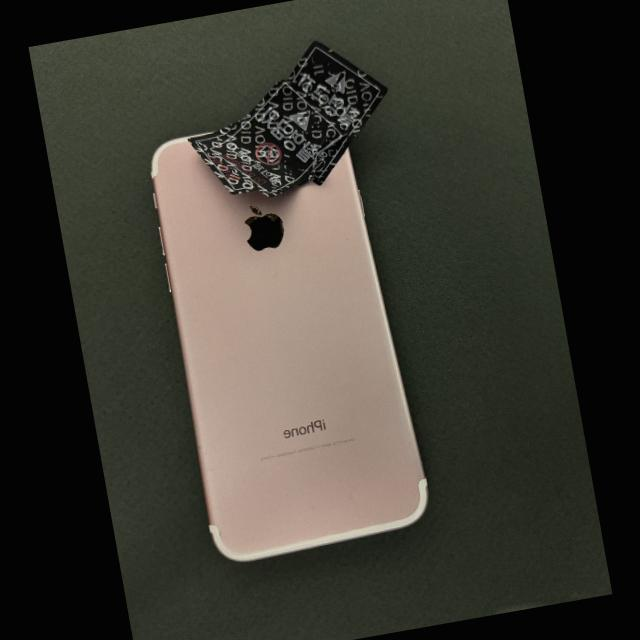phone: (150, 110, 429, 560)
sticker: (205, 78, 347, 197), (285, 39, 388, 185), (187, 118, 257, 195)
